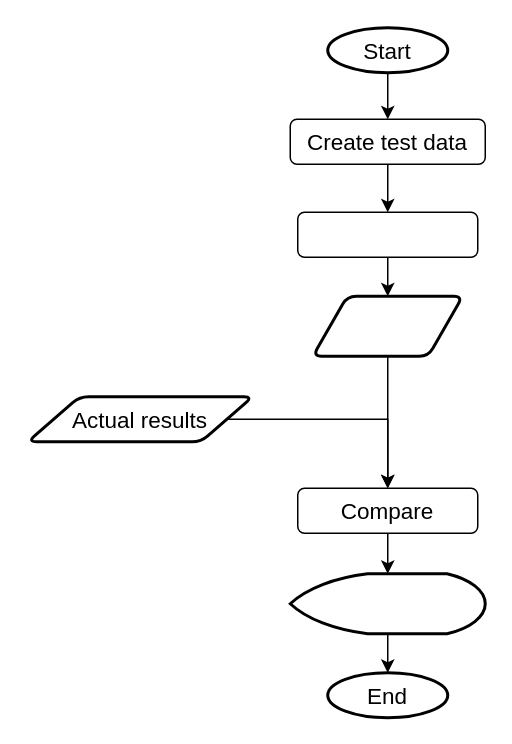
Some shapes in this 512 by 744 pixel diagram are drawn without their labels. The shapes that lost their labels are listed below. From the top down, each one's centre as x and y in pixels, then its label:
At point 387,234: "Test ML Model".
At point 387,325: "Predicted results".
At point 387,603: "Accuracy score".
